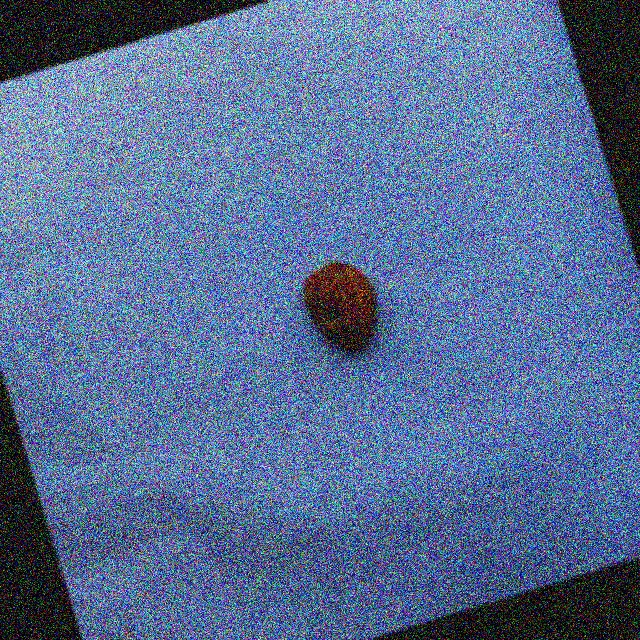grade3: (291, 249, 391, 365)
